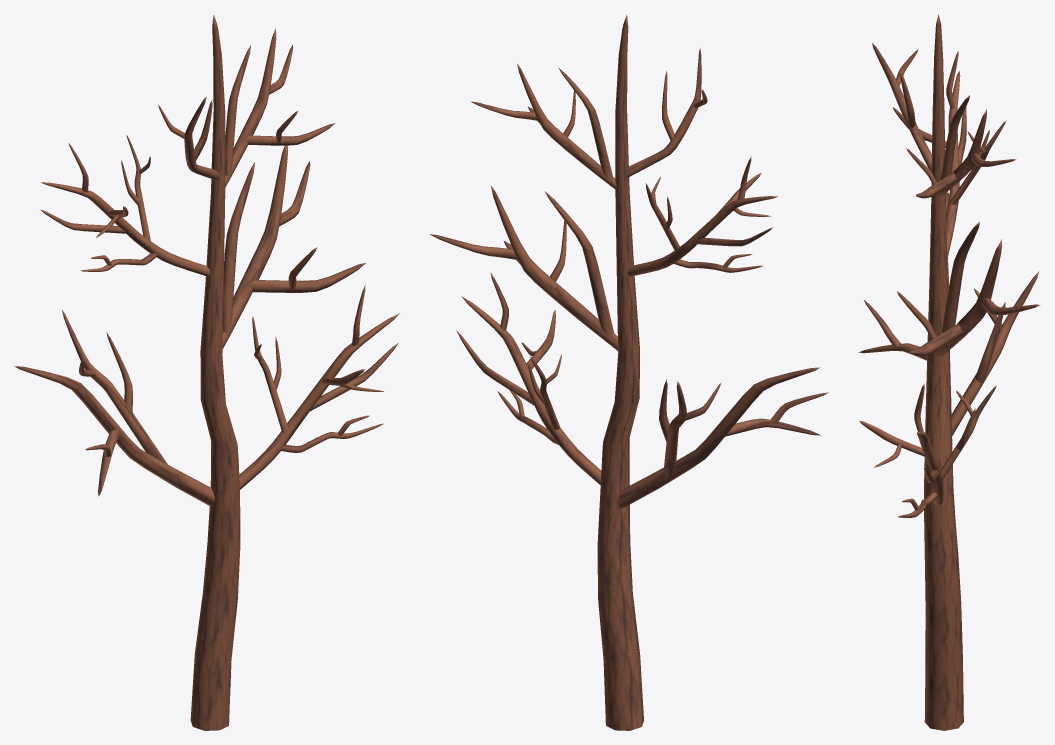
The model's file is quaternius-ultimate-stylized-nature-dead-tree-2.glb.
The picture shows the model from 3 angles, left to right: view 1: azimuth 30°, elevation 25°; view 2: azimuth 150°, elevation 25°; view 3: azimuth 270°, elevation 25°; orthographic projection.
Visible parts, largest first — view 1: DeadTree_2; view 2: DeadTree_2; view 3: DeadTree_2.
Part boxes in pixels (left/top/right/bottom): DeadTree_2: left=14, top=15, right=399, bottom=730; DeadTree_2: left=430, top=14, right=828, bottom=730; DeadTree_2: left=858, top=14, right=1040, bottom=730.
Size of the model in its own units: 3.42 by 6.2 by 1.45.
Materials: 1 (1 with a texture image).
